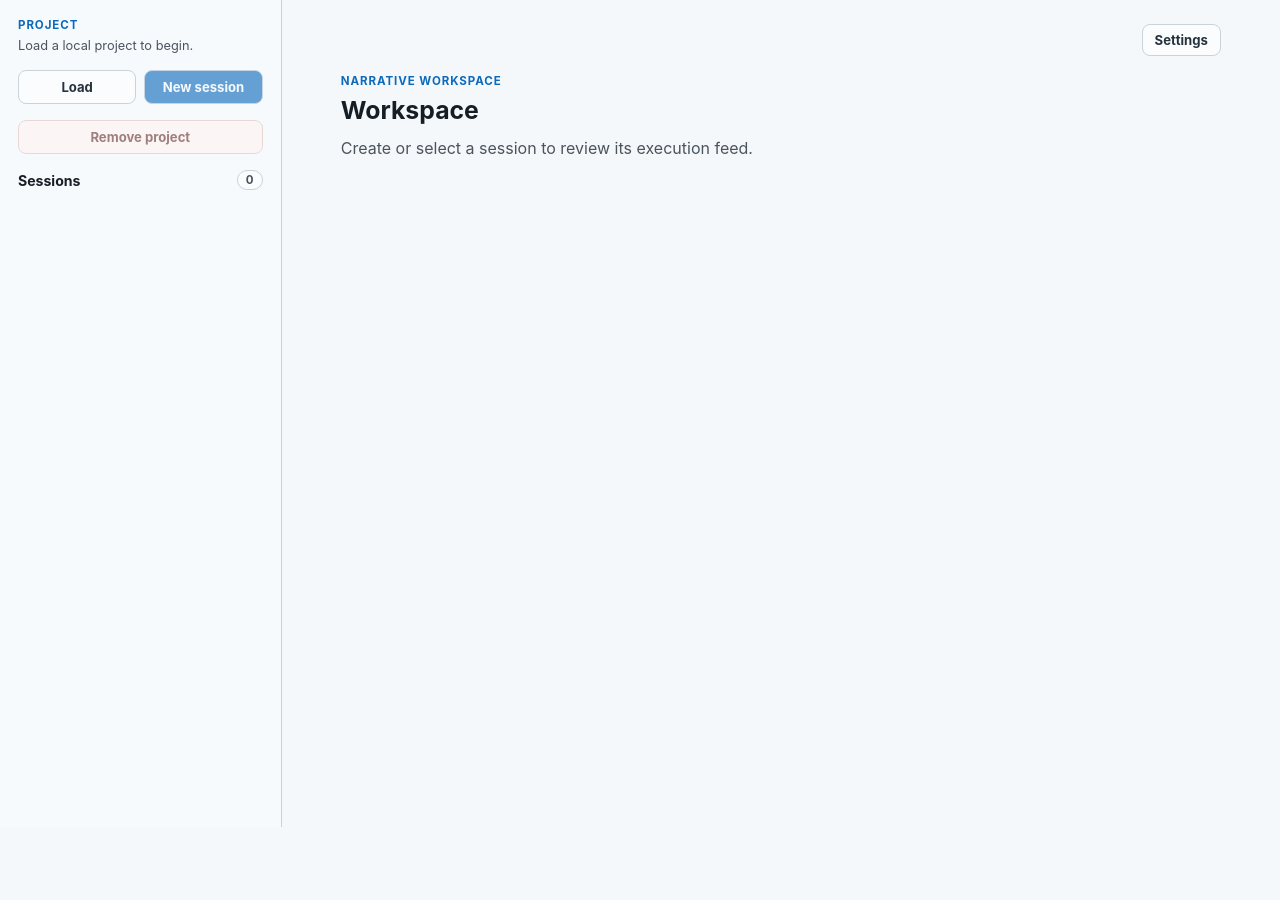
SettingsModal › opens from the global tools area with the required settings sections
This screenshot has width=1280, height=900.
What coordinates should you click on to do the following:
click the button with aria-label "Open settings"
I would click on:
 (1181, 40)
Its box is [1142,24,1221,56].
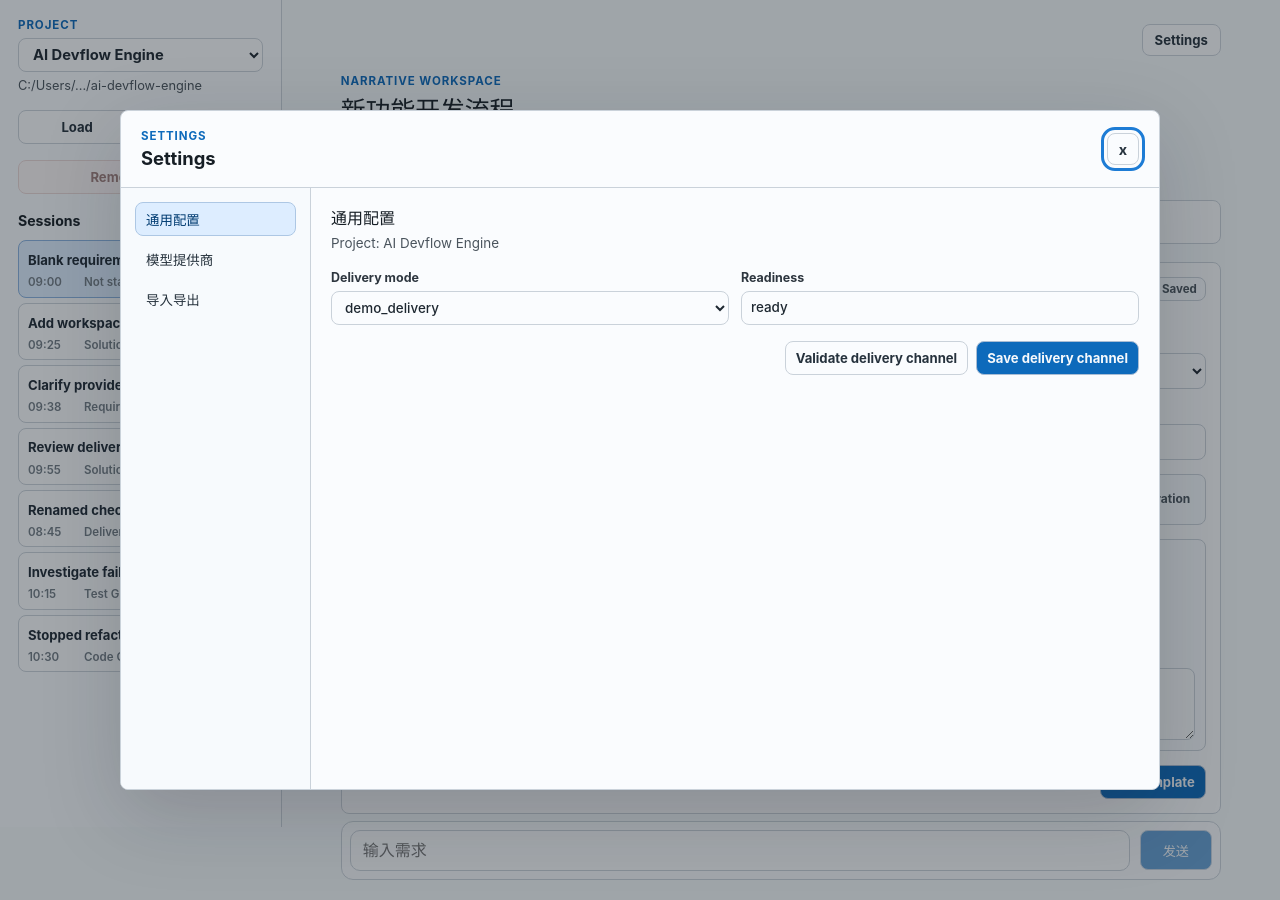
Expected: the dialog "Settings" is shown
Expected: the button named "Close settings" is shown, [1107,133,1139,165]
Expected: the tab "通用配置" is shown, [135,202,296,236]
